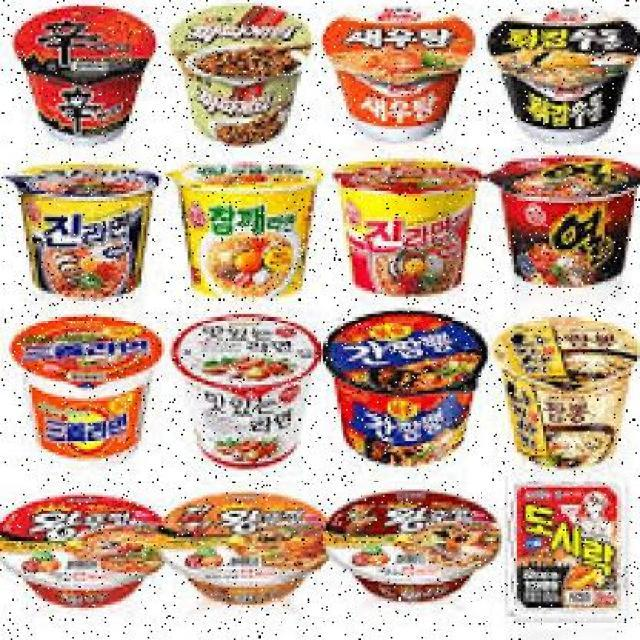Miscellaneous: (327, 309, 498, 468), (161, 154, 330, 304), (495, 314, 640, 476), (175, 308, 328, 456), (323, 0, 484, 138), (0, 484, 178, 607), (329, 158, 483, 296), (481, 152, 640, 284), (154, 491, 334, 607), (325, 492, 518, 600), (3, 162, 157, 296), (12, 0, 154, 145), (481, 0, 633, 135), (167, 2, 316, 138), (24, 314, 160, 452)
